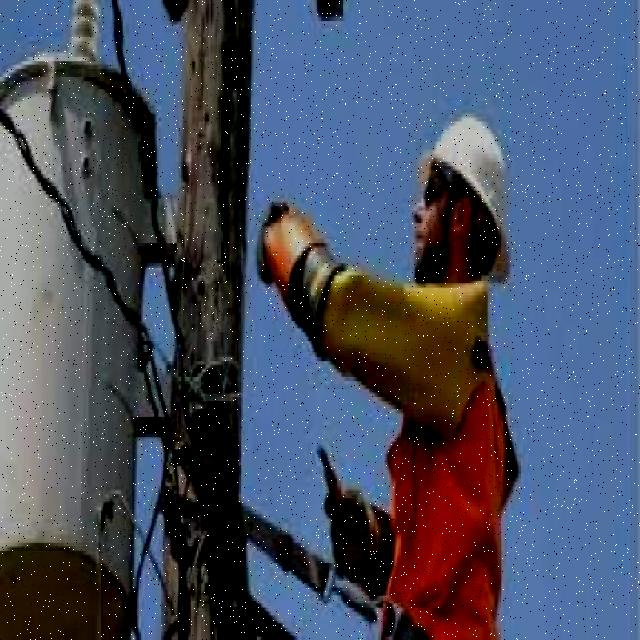Gloves: (312, 440, 376, 582), (254, 188, 320, 316)
Helmet: (412, 103, 526, 282)
